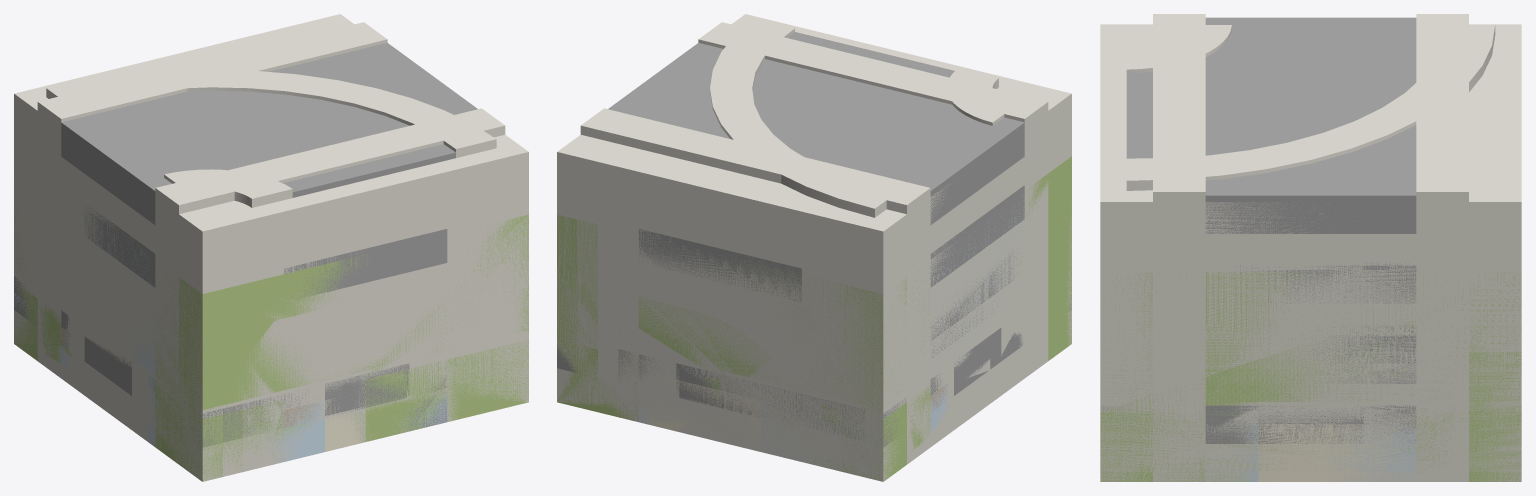
3 renders of one model, left to right at view 1: azimuth 30°, elevation 25°; view 2: azimuth 150°, elevation 25°; view 3: azimuth 270°, elevation 25°, orthographic. The views are drawn at different scales.
Visible parts, largest first — view 1: tile236, tile242, tile007, tile225, tile284, tile261, tile102, tile290, tile269, tile278, tile240, tile229 (+36 smaller); view 2: tile236, tile242, tile284, tile261, tile225, tile290, tile282, tile255, tile096, tile269, tile291, tile268 (+36 smaller); view 3: tile236, tile225, tile277, tile292, tile284, tile242, tile269, tile210, tile155, tile241, tile229, tile282 (+26 smaller).
Part boxes in pixels (box(x1,y1,x2,y2)): tile236: box(37, 22, 505, 275); tile242: box(14, 14, 528, 293); tile007: box(247, 259, 528, 401); tile225: box(46, 71, 496, 207); tile284: box(14, 147, 528, 479); tile261: box(14, 148, 528, 477); tile102: box(202, 258, 355, 479); tile290: box(69, 206, 178, 459); tile269: box(204, 152, 528, 293); tile278: box(14, 193, 528, 479); tile240: box(14, 148, 528, 477); tile229: box(37, 171, 473, 445); tile236: box(580, 22, 1048, 266); tile242: box(557, 14, 1071, 407); tile284: box(638, 147, 1071, 481); tile261: box(638, 147, 1071, 478); tile225: box(710, 18, 1014, 217); tile290: box(908, 172, 1048, 374); tile282: box(557, 214, 651, 397); tile255: box(638, 237, 882, 478); tile096: box(918, 183, 1047, 367); tile269: box(557, 152, 833, 272); tile291: box(638, 278, 1071, 481); tile268: box(577, 210, 656, 400); tile236: box(1153, 14, 1468, 271); tile225: box(1126, 25, 1495, 190); tile277: box(1100, 262, 1335, 481); tile292: box(1208, 262, 1521, 481); tile284: box(1309, 262, 1521, 481); tile242: box(1100, 24, 1521, 261); tile269: box(1100, 202, 1521, 261); tile210: box(1100, 262, 1346, 480); tile155: box(1232, 416, 1463, 481); tile241: box(1312, 402, 1521, 481); tile229: box(1297, 262, 1468, 481); tile282: box(1100, 339, 1349, 481).
Size of the model in its own units: 100 by 76 by 100.
